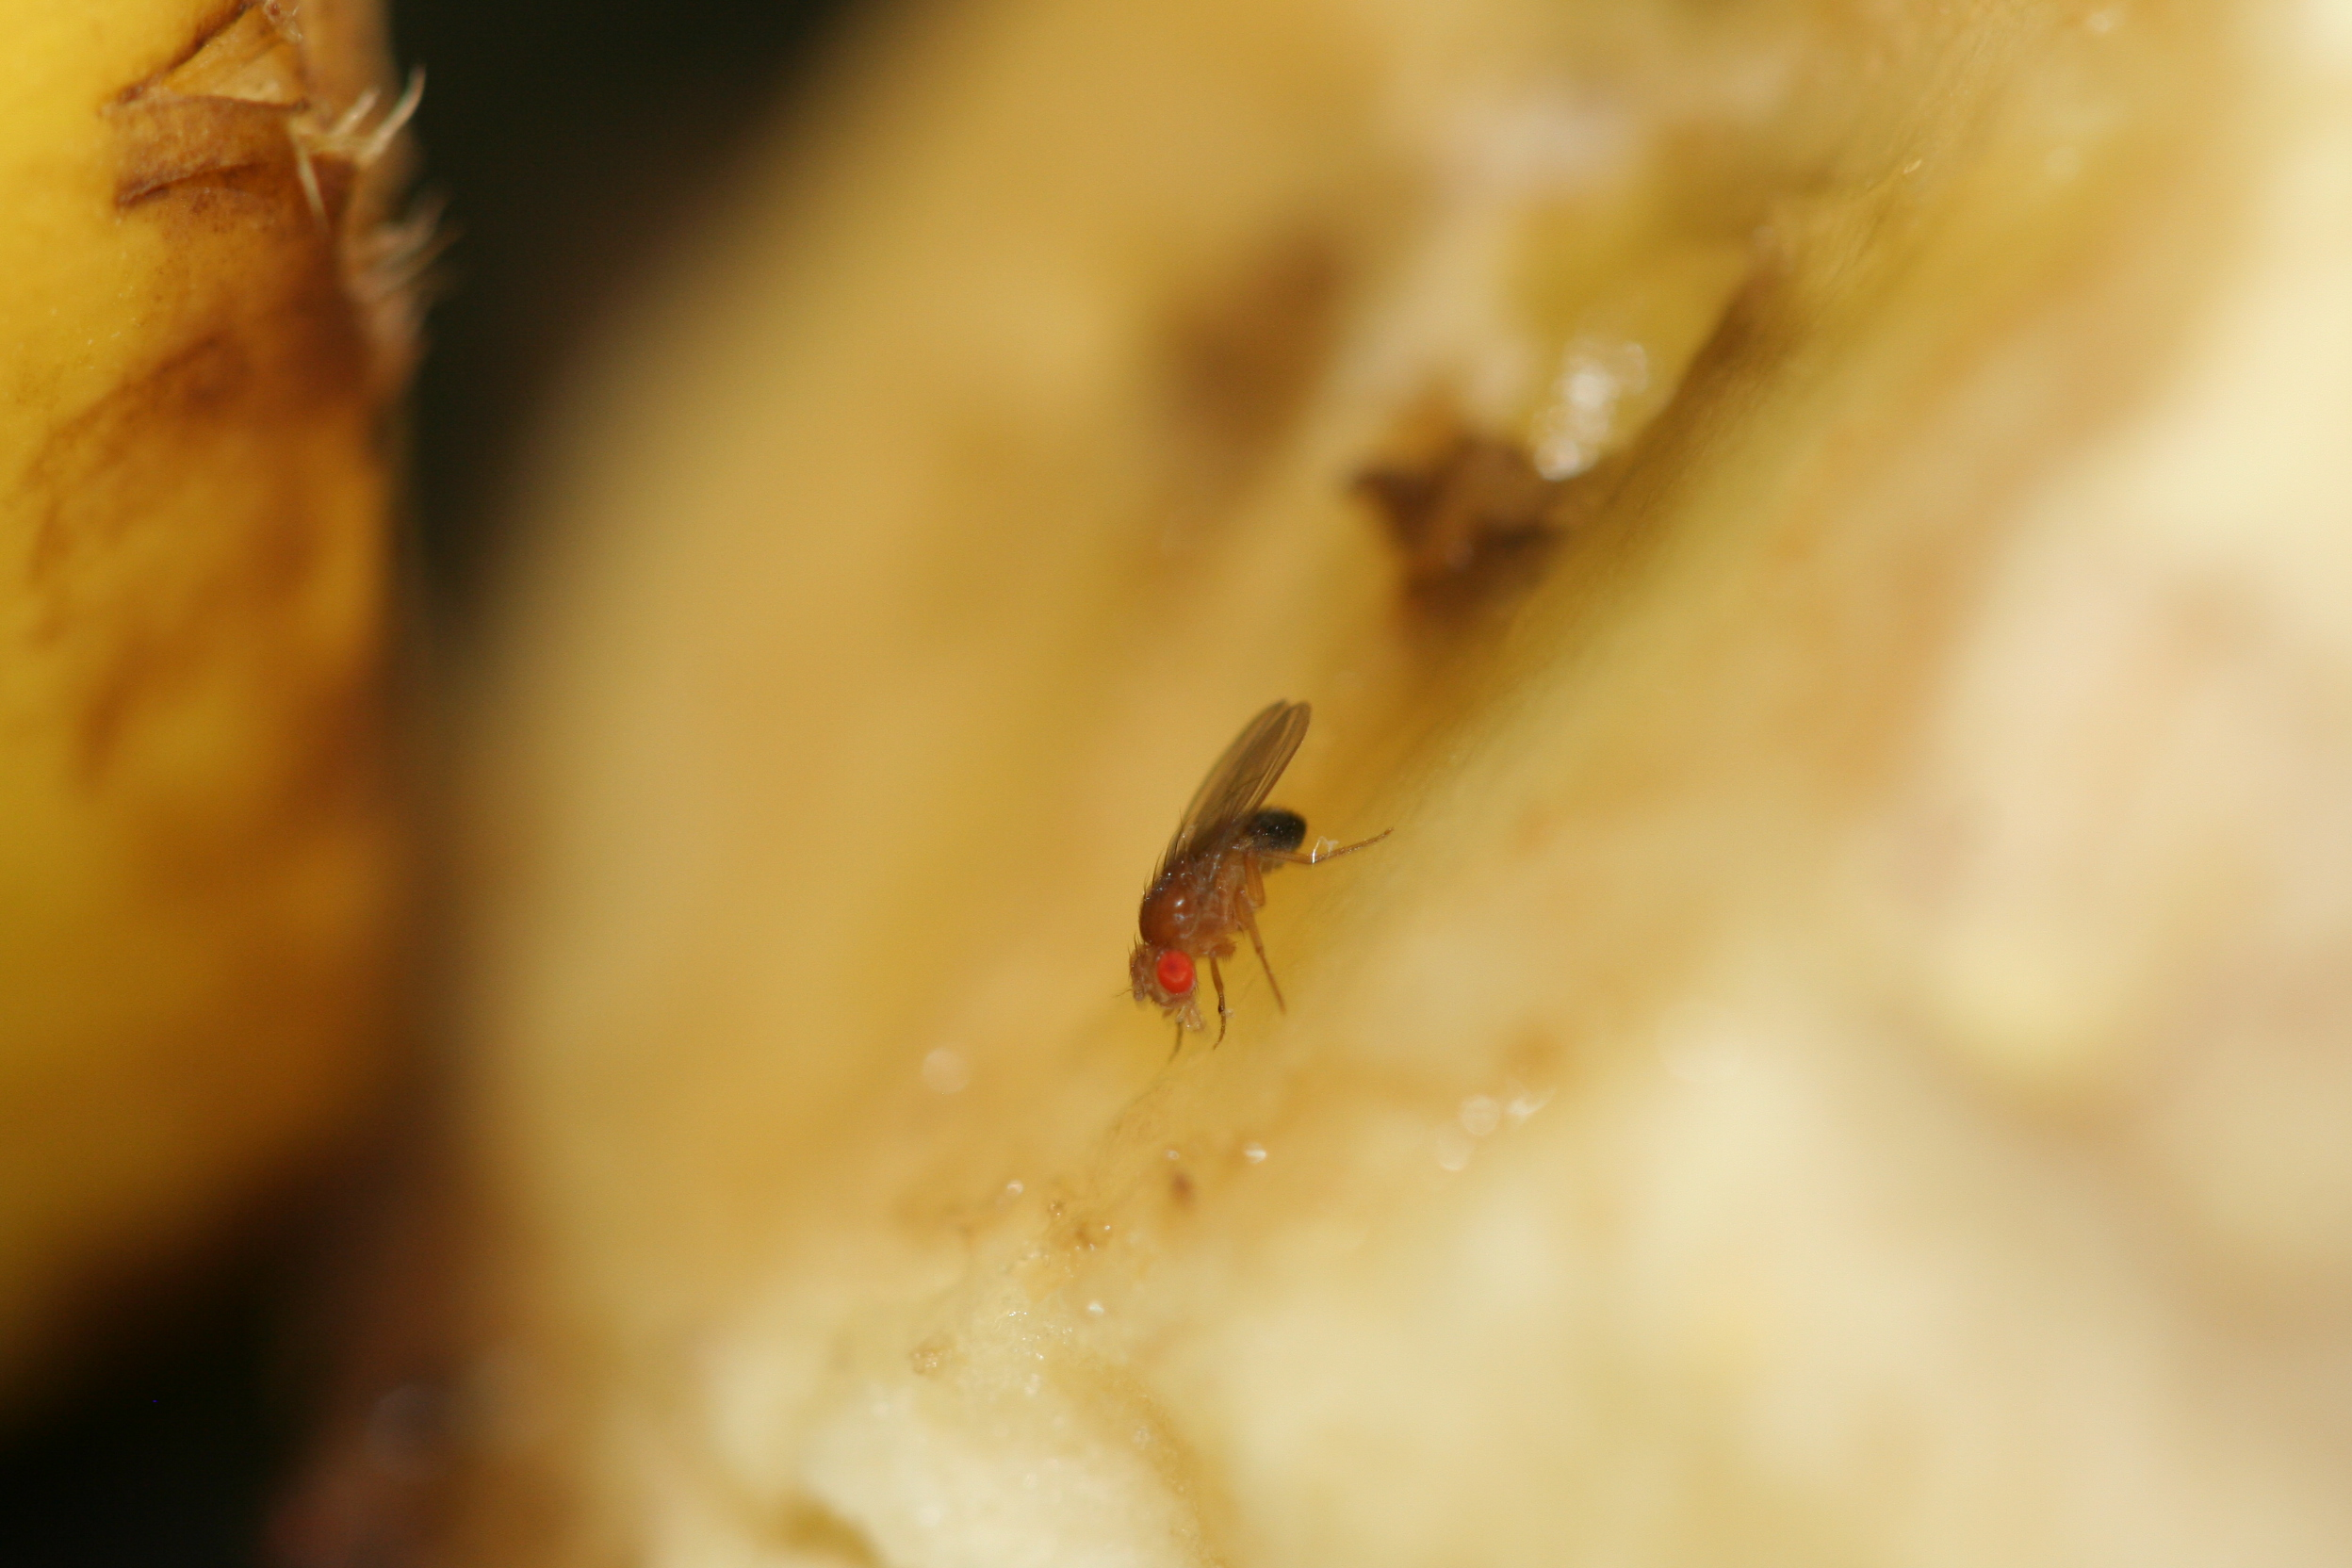Fruit fly: (1042, 728, 1422, 1087)
